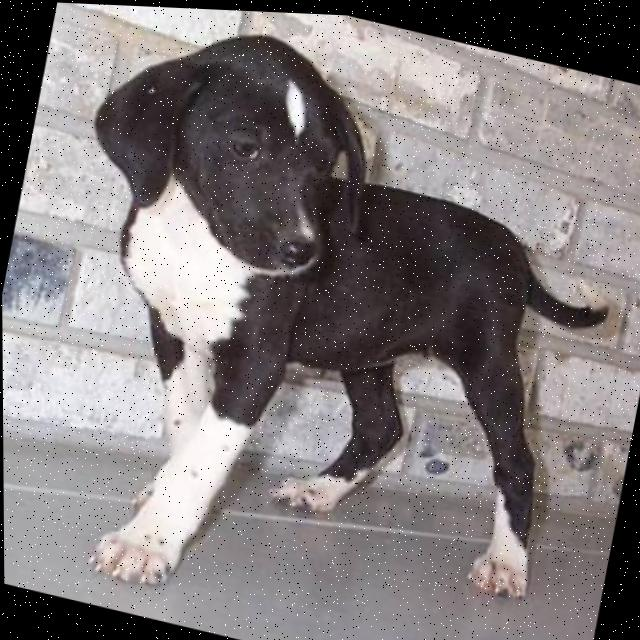dogs: (14, 0, 640, 640)
